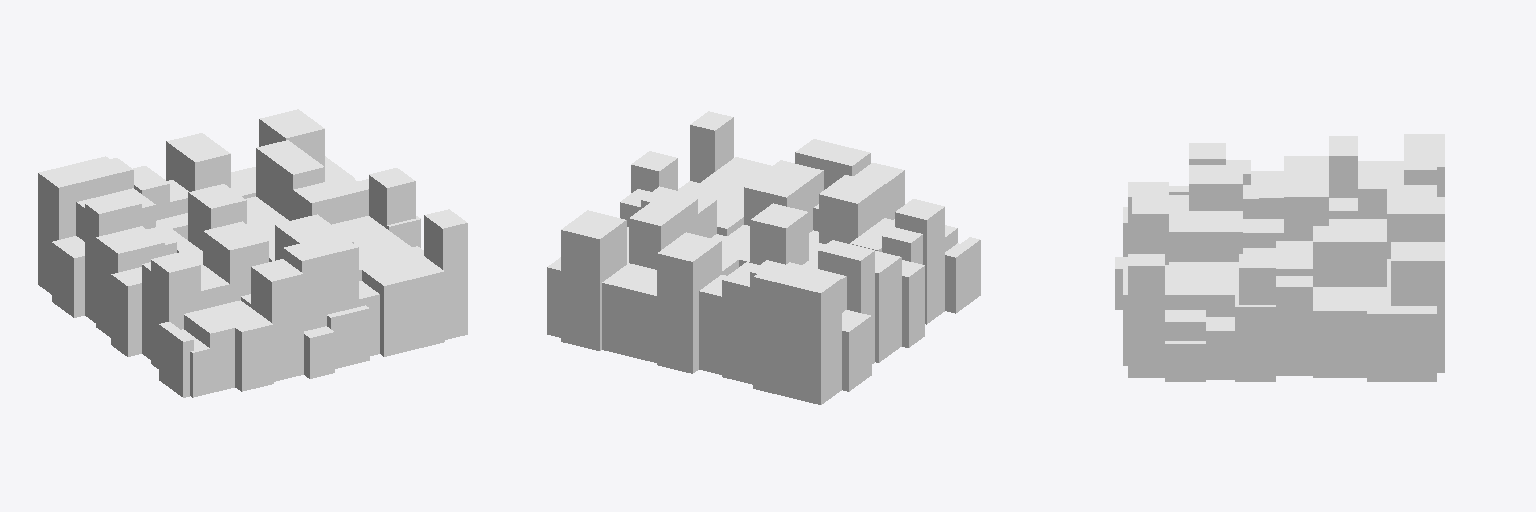
File: background.obj
The picture shows the model from 3 angles: view 1: azimuth 30°, elevation 25°; view 2: azimuth 150°, elevation 25°; view 3: azimuth 270°, elevation 25°; orthographic projection.
Bounding box in the file's own units: 5 × 1.88 × 5.